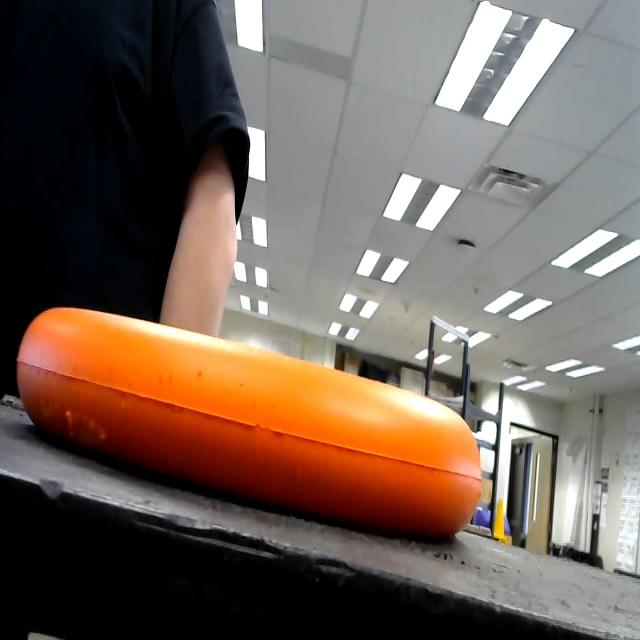note: (0, 282, 488, 569)
